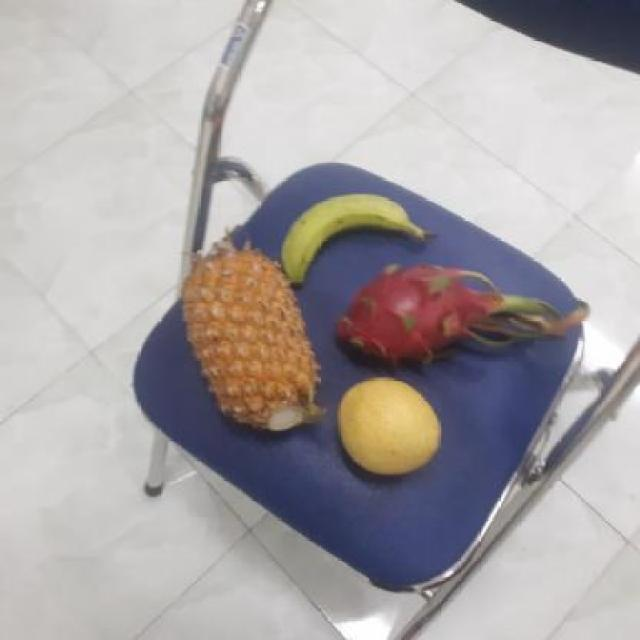banana: (270, 191, 408, 286)
dragon fruit: (330, 265, 493, 378)
pear: (336, 378, 444, 477)
pineapple: (174, 253, 328, 432)
